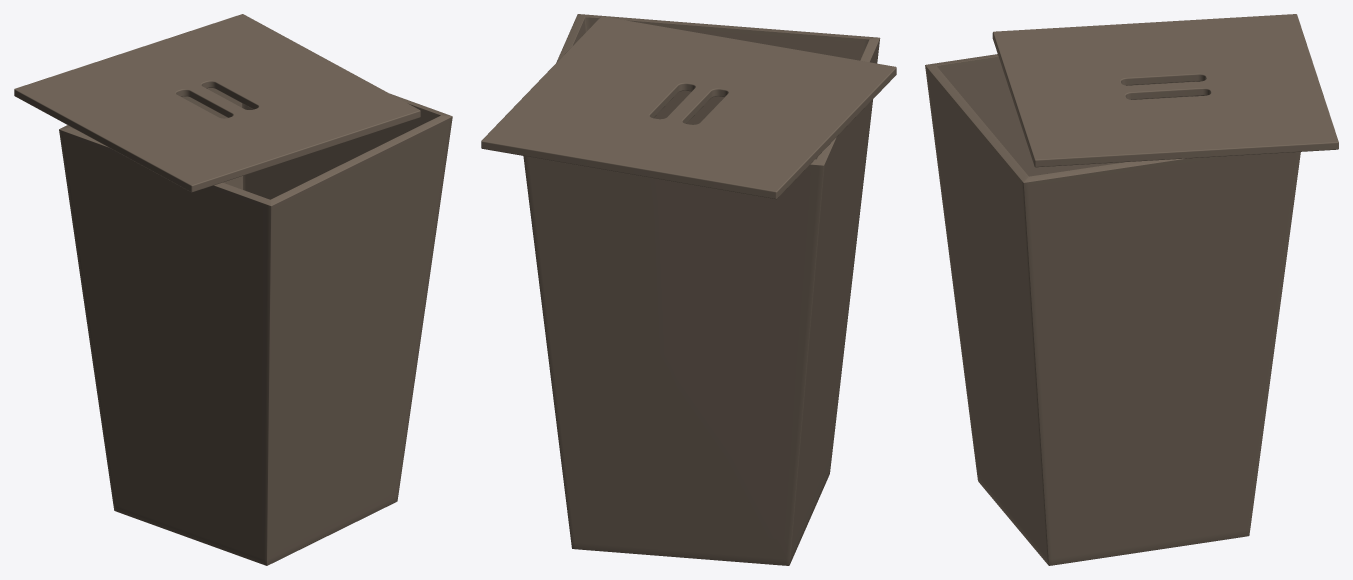
Rendered from TrashCan_11.7.fbx.
3 renders of one model, left to right at view 1: azimuth 30°, elevation 25°; view 2: azimuth 150°, elevation 25°; view 3: azimuth 270°, elevation 25°, orthographic. The views are drawn at different scales.
Visible parts, largest first — view 1: Arch46_068_2, Arch46_068_3; view 2: Arch46_068_2, Arch46_068_3; view 3: Arch46_068_2, Arch46_068_3.
Boxes of the visible parts, bbox=[...] form: Arch46_068_2: bbox=[59, 88, 452, 565]; Arch46_068_3: bbox=[14, 14, 420, 192]; Arch46_068_2: bbox=[523, 14, 880, 565]; Arch46_068_3: bbox=[481, 16, 896, 199]; Arch46_068_2: bbox=[925, 54, 1300, 565]; Arch46_068_3: bbox=[992, 14, 1338, 167].
Size of the model in its own units: 64.58 by 78.1 by 70.61.
